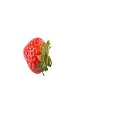strawberry: (22, 37, 52, 75)
